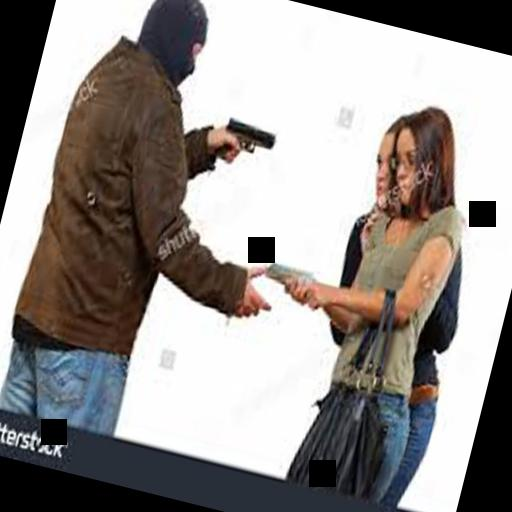Handgun: (219, 110, 276, 166)
